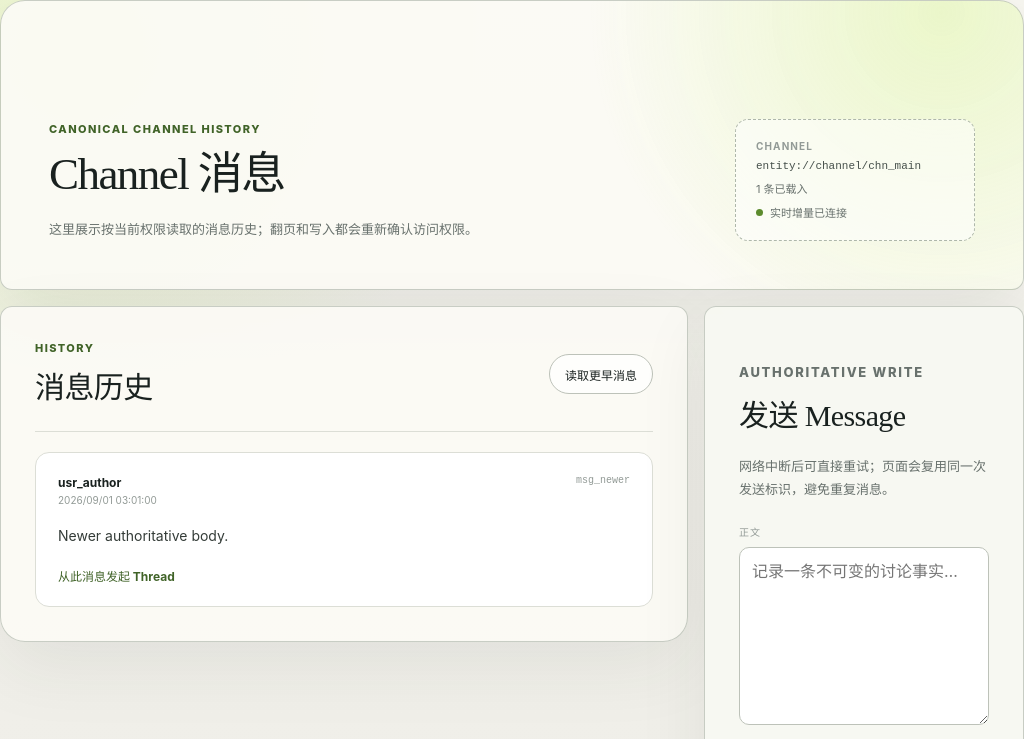
Test case: ChannelPage › clears previously rendered bodies when a later request proves access revoked
Expected: the text "Newer authoritative body." is shown, [58,527,228,544]
Click the button "读取更早消息" at [601, 374], box [549,354,653,394]
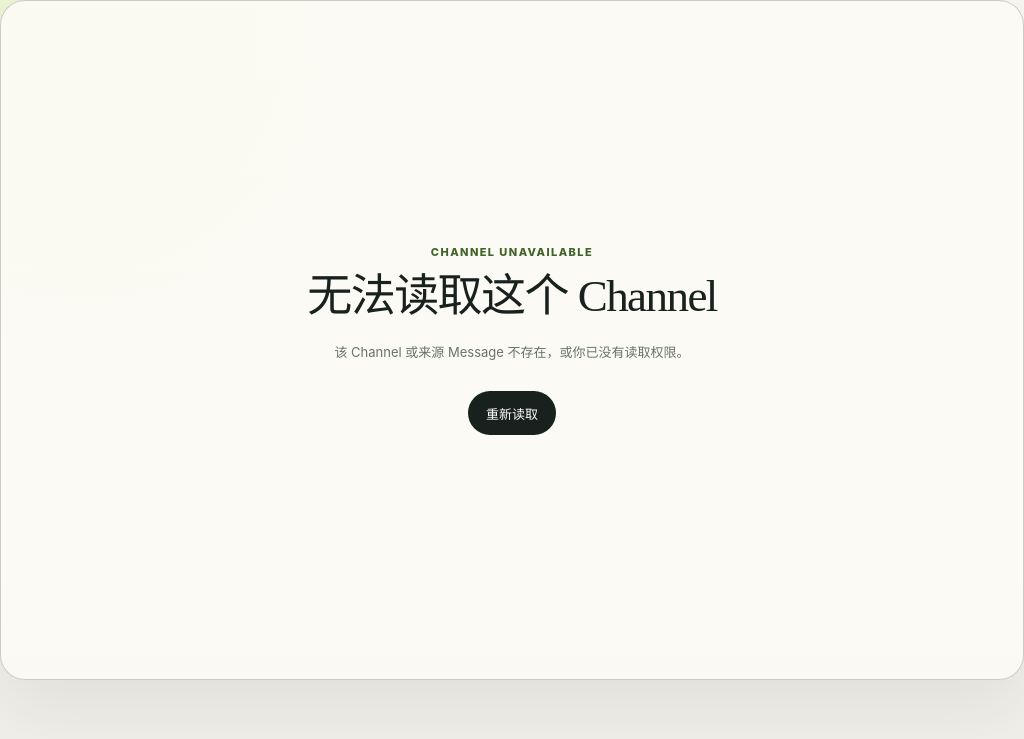
Now the heading "无法读取这个 Channel" is shown, box [307,272,717,321]
Now the text "Newer authoritative body." is gone
